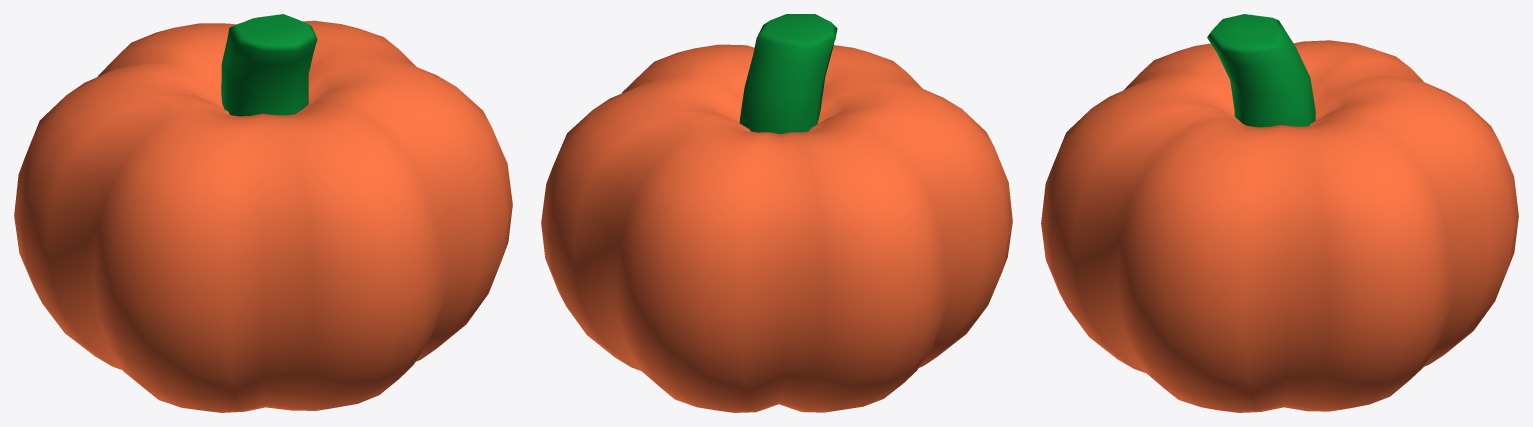
File: Store_10_Pumpkin_2.glb
3 views of the same model, side by side, from view 1: azimuth 30°, elevation 25°; view 2: azimuth 150°, elevation 25°; view 3: azimuth 270°, elevation 25° (orthographic). The views are drawn at different scales.
Parts seen in each view (by area): view 1: Store_10_Pumpkin_2; view 2: Store_10_Pumpkin_2; view 3: Store_10_Pumpkin_2.
Part boxes in pixels (x1,y1,x2,y2): Store_10_Pumpkin_2: (14, 14, 512, 412); Store_10_Pumpkin_2: (541, 14, 1012, 412); Store_10_Pumpkin_2: (1041, 14, 1518, 412).
Size of the model in its own units: 0.3458 by 0.2896 by 0.3712.
Materials: 1 (1 with a texture image).
